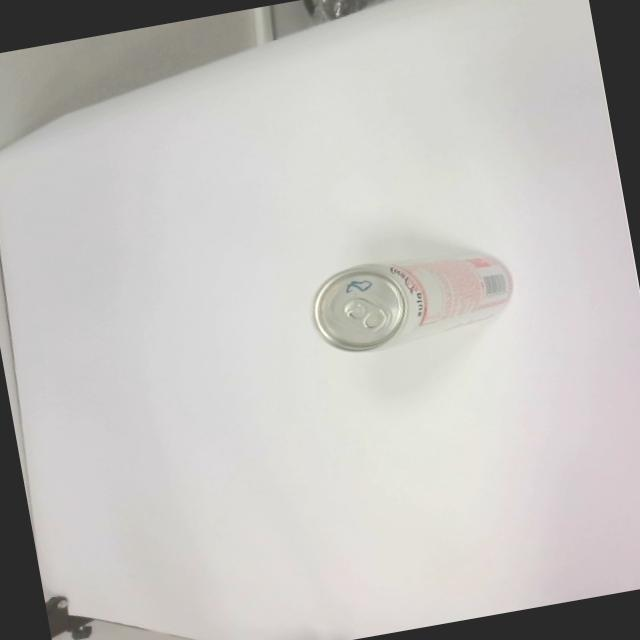debris: (302, 235, 522, 361)
